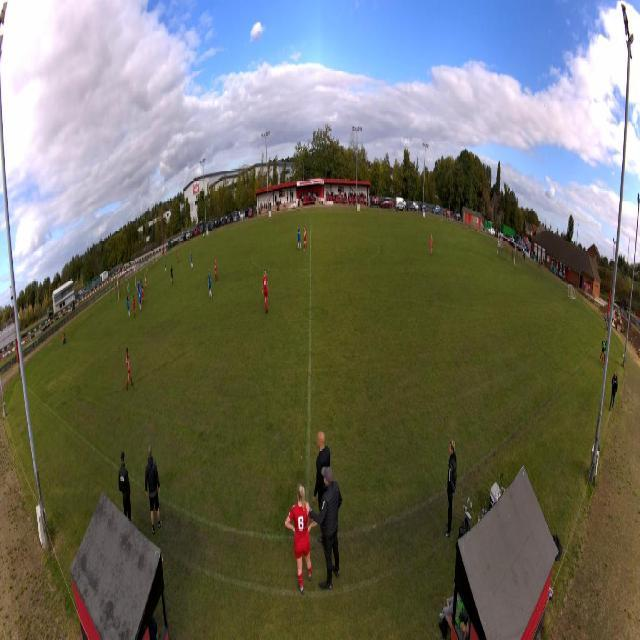ball: (140, 239, 141, 243)
player: (125, 347, 134, 392), (261, 269, 269, 316), (208, 268, 213, 302), (303, 224, 308, 252), (297, 223, 302, 251), (213, 255, 218, 283), (132, 294, 136, 320), (138, 288, 142, 313), (170, 263, 174, 287), (126, 295, 130, 319), (429, 232, 433, 256), (190, 250, 194, 271), (141, 285, 144, 307), (176, 248, 180, 264), (127, 282, 131, 298), (139, 286, 142, 306), (144, 272, 147, 291), (136, 281, 139, 299), (164, 257, 167, 273), (140, 277, 143, 292), (138, 280, 140, 296)
